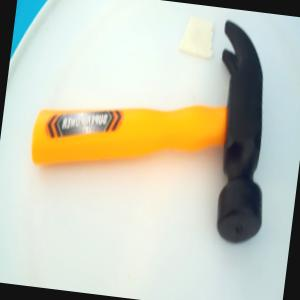martelo: (20, 0, 286, 248)
